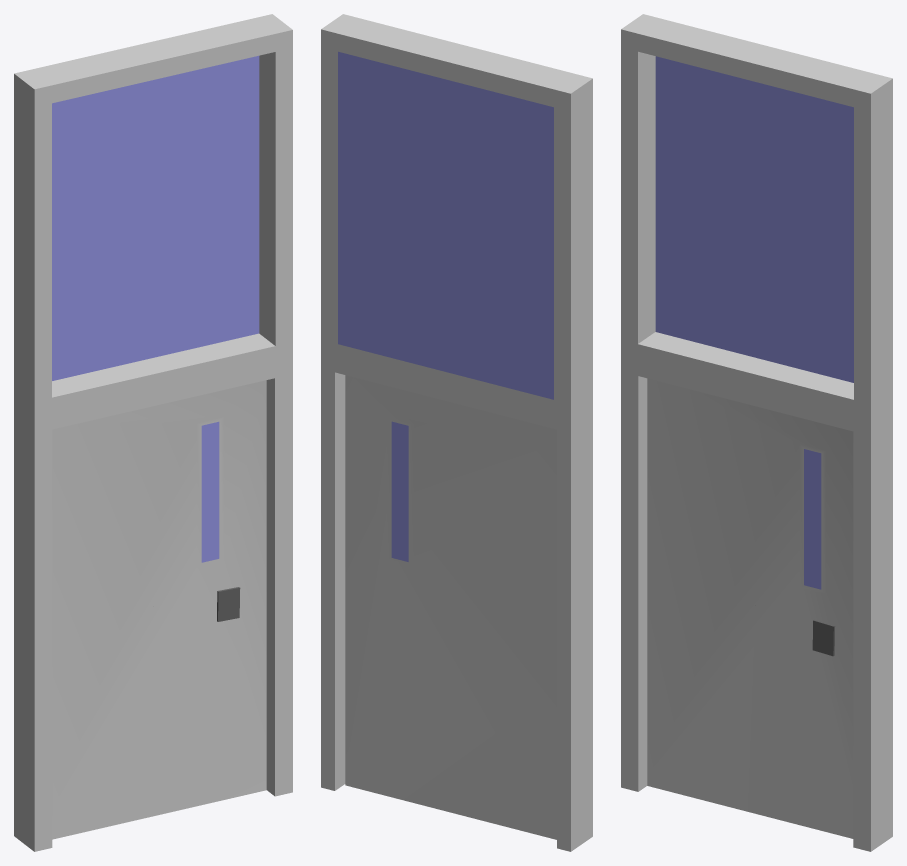
File: door-wooden.fbx
3 views of the same model, side by side, from view 1: azimuth 30°, elevation 25°; view 2: azimuth 150°, elevation 25°; view 3: azimuth 330°, elevation 25° (orthographic).
Visible parts, largest first — view 1: Panel.001, door-plate-wood-glass, door-plate-wood-frame, WoodenDoor, glass-panel, handle-plate; view 2: Panel.001, door-plate-wood-glass, door-plate-wood-frame, WoodenDoor, glass-panel; view 3: Panel.001, door-plate-wood-glass, door-plate-wood-frame, WoodenDoor, glass-panel, handle-plate.
Boxes of the visible parts, x1,y1,x2,y2 form: Panel.001: [52, 380, 266, 839]; door-plate-wood-glass: [52, 55, 259, 380]; door-plate-wood-frame: [14, 14, 292, 419]; WoodenDoor: [14, 360, 292, 851]; glass-panel: [201, 421, 219, 562]; handle-plate: [217, 587, 240, 621]; Panel.001: [345, 375, 556, 839]; door-plate-wood-glass: [338, 51, 553, 399]; door-plate-wood-frame: [321, 14, 592, 421]; WoodenDoor: [321, 358, 592, 851]; glass-panel: [391, 421, 408, 561]; Panel.001: [647, 378, 853, 838]; door-plate-wood-glass: [655, 56, 853, 382]; door-plate-wood-frame: [621, 14, 892, 421]; WoodenDoor: [621, 358, 892, 851]; glass-panel: [804, 449, 821, 589]; handle-plate: [812, 619, 835, 656].
Bounding box in the file's own units: 98.43 × 280 × 16.64.
